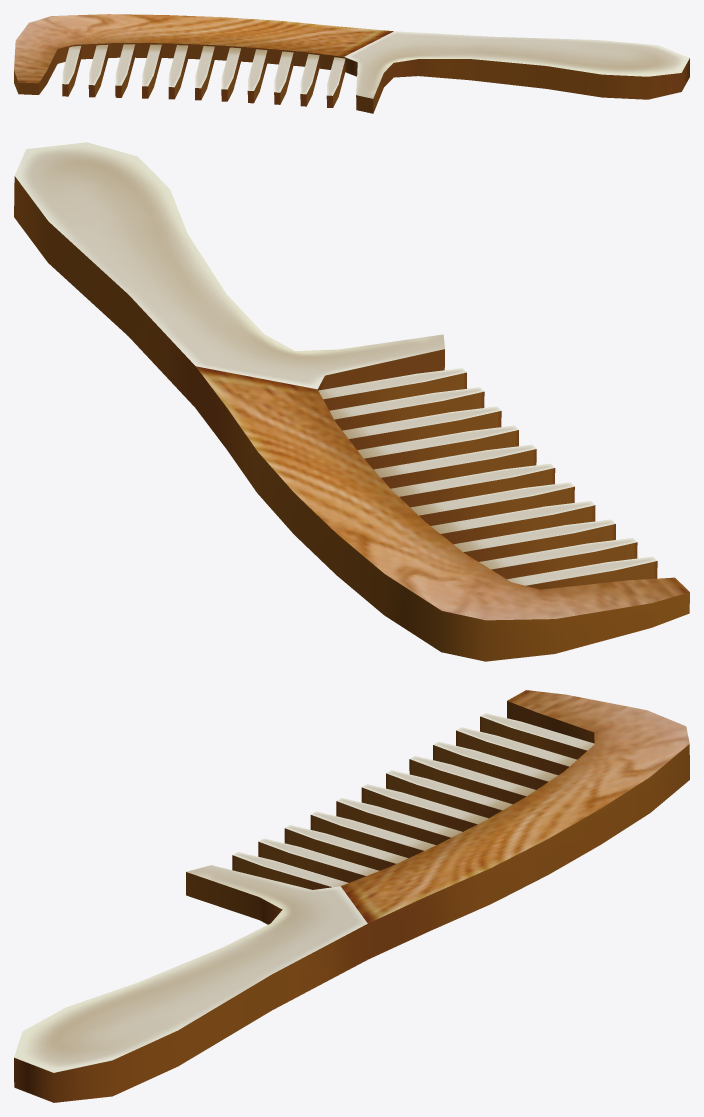
The model's file is XiuXiShi_01_shuzi_01.FBX.
3 views of the same model, one above another, from view 1: azimuth 30°, elevation 25°; view 2: azimuth 150°, elevation 25°; view 3: azimuth 270°, elevation 25° (orthographic). The views are drawn at different scales.
Parts seen in each view (by area): view 1: XiuXiShi_shuzi; view 2: XiuXiShi_shuzi; view 3: XiuXiShi_shuzi.
Boxes of the visible parts, x1,y1,x2,y2 form: XiuXiShi_shuzi: (14,14,689,113); XiuXiShi_shuzi: (14,142,689,661); XiuXiShi_shuzi: (14,690,689,1102).
Bounding box in the file's own units: 78.96 × 3.83 × 56.96.
Materials: 1 (1 with a texture image).
